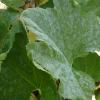Squash Powdery mildew leaf: (19, 0, 99, 99)
